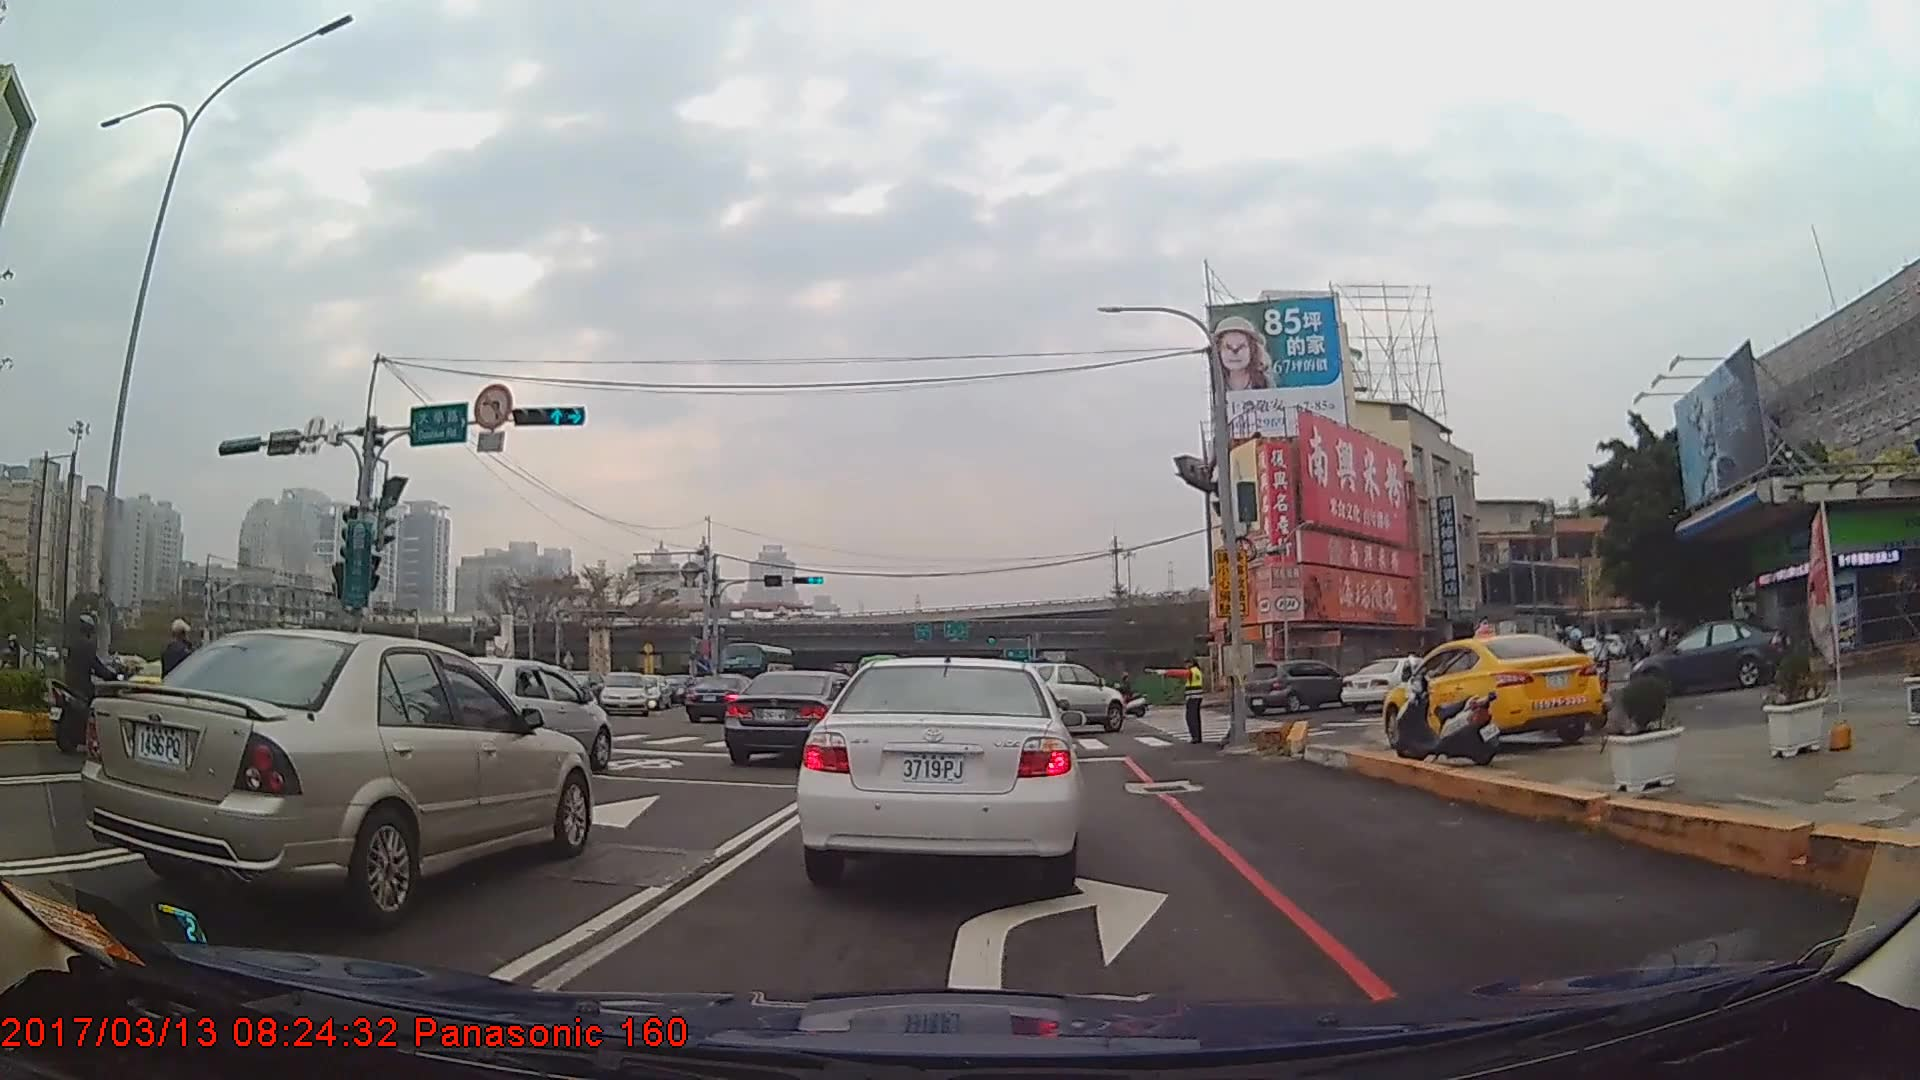pedestrian: (1146, 657, 1208, 745)
rider: (47, 617, 126, 759), (156, 614, 201, 774), (1101, 671, 1148, 720)
vehicle: (79, 629, 597, 923), (789, 655, 1082, 882), (1380, 631, 1609, 748), (422, 653, 613, 776), (1624, 617, 1795, 697), (724, 670, 869, 762), (1014, 659, 1124, 737), (1241, 658, 1352, 714), (1338, 655, 1442, 714), (683, 669, 769, 723), (600, 670, 649, 716)
